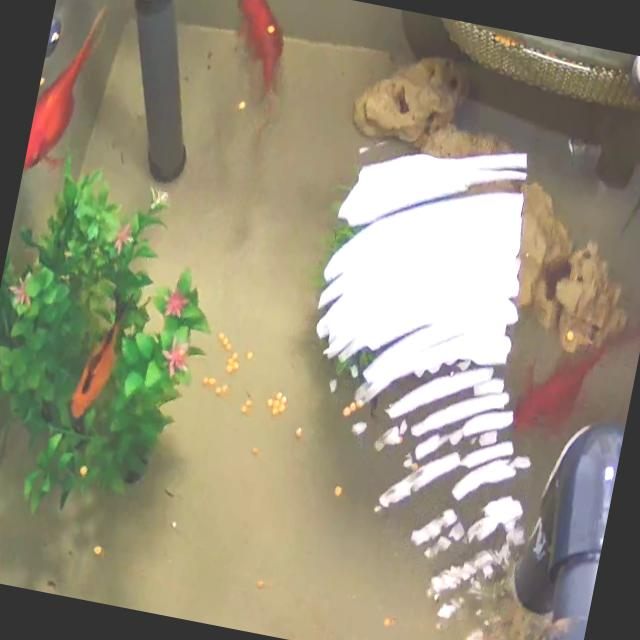fish: (511, 300, 640, 445), (23, 0, 113, 178), (64, 276, 137, 430), (219, 0, 297, 105)
